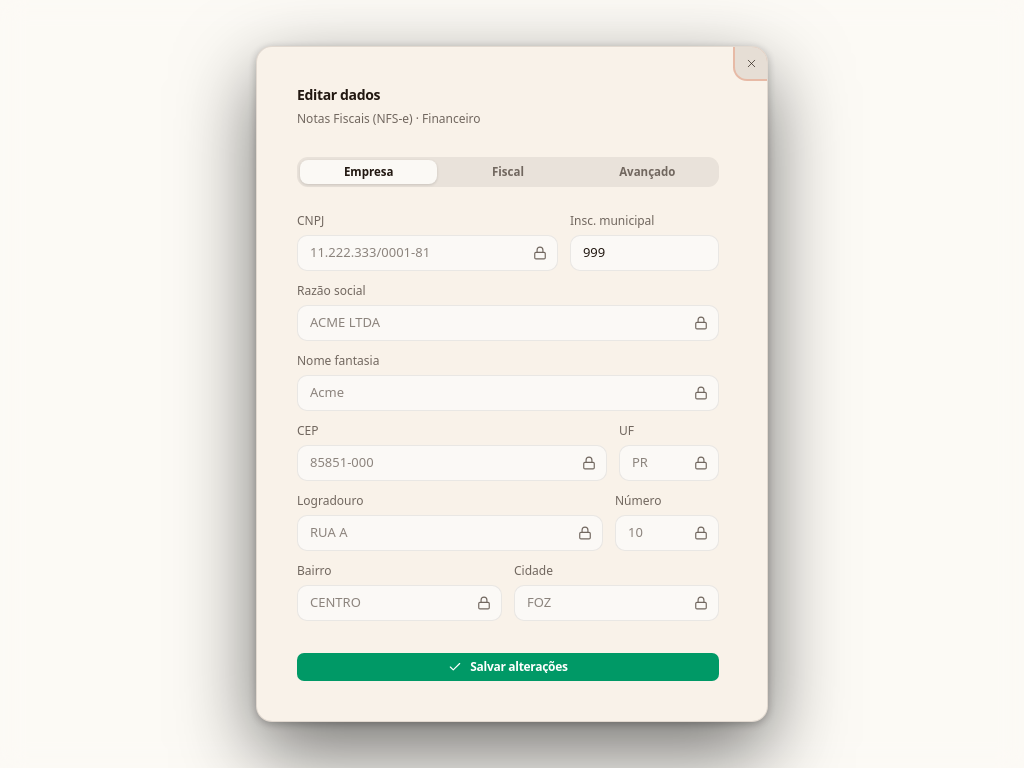
Test: janela Notas Fiscais (NFS-e) › Editar dados: título, abas, regime especial e salvar com os valores avançados
Later steps or results of the test are not shown.
Expected: the heading "Editar dados" is shown, [297, 85, 380, 104]
Expected: the text "Notas Fiscais (NFS-e) · Financeiro" is shown, [297, 110, 481, 127]
Click the button "Avançado" at (647, 172), box [579, 160, 716, 184]
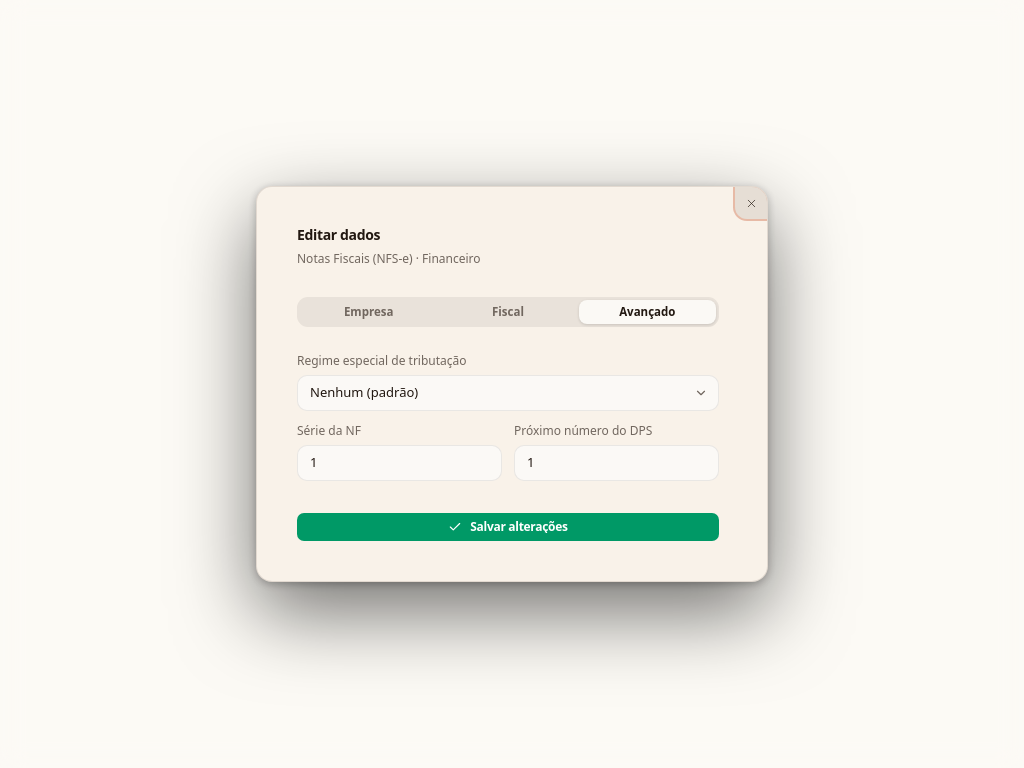
Expected: the text "Nenhum (padrão)" is shown, [310, 383, 418, 401]
Expected: the text "Próximo número do DPS" is shown, [514, 422, 652, 439]
